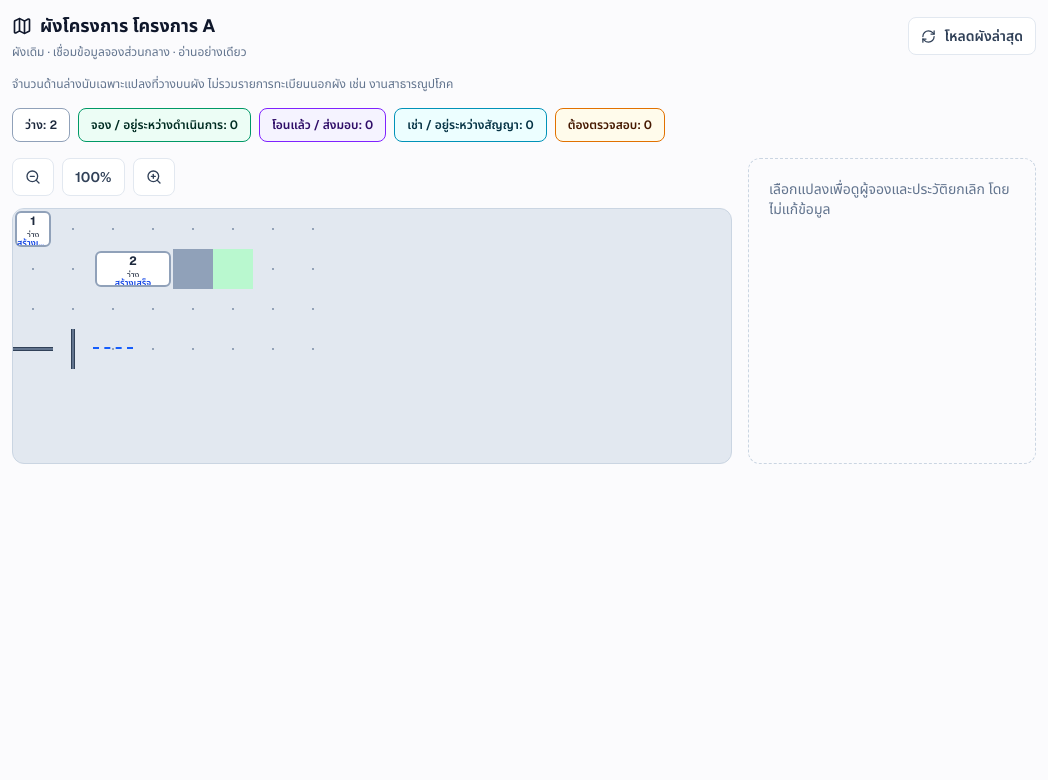
Scenario: canonical rental links on read-only map › keeps exact converted rental history link available for owner read role
Click the button with aria-label "แปลง 2 — ว่าง" at (133, 269), box top-left (93, 249), bottom-right (173, 289)
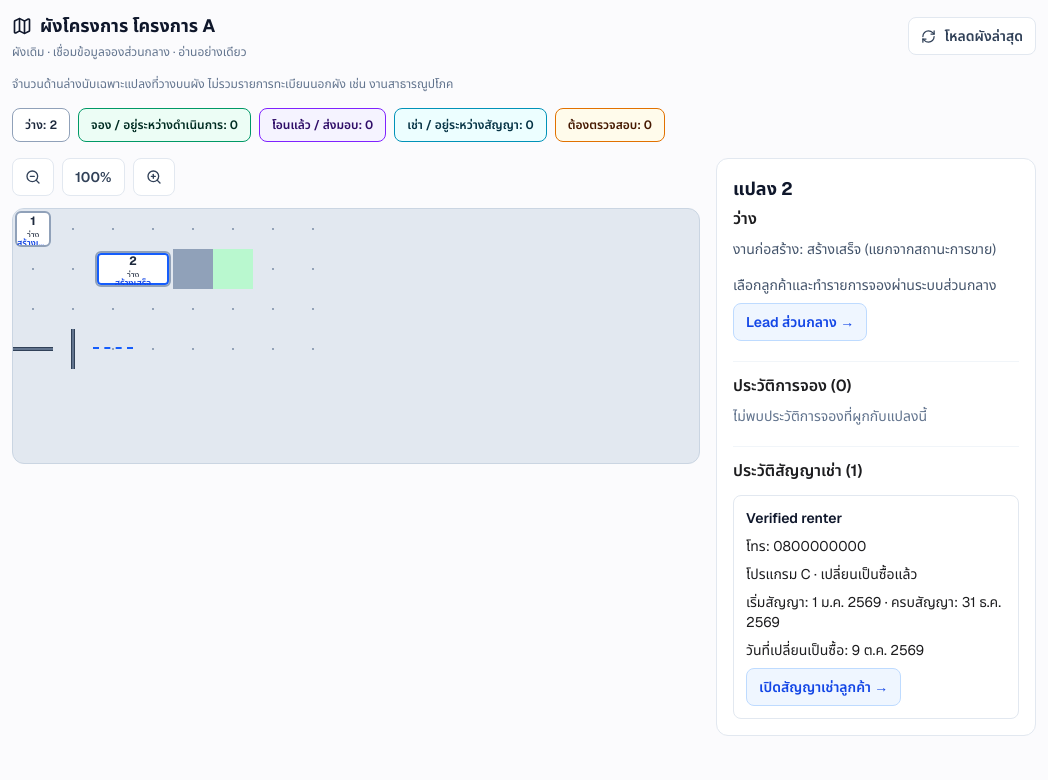
Now the text "โปรแกรม C · เปลี่ยนเป็นซื้อแล้ว" is shown, box top-left (746, 565), bottom-right (917, 583)
